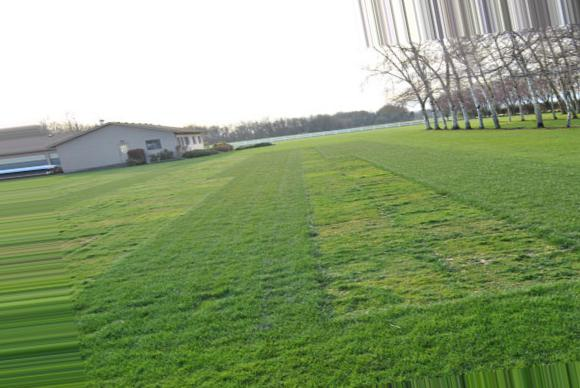patch: (344, 268, 475, 292), (324, 221, 377, 245), (89, 215, 176, 229), (415, 224, 485, 237)
